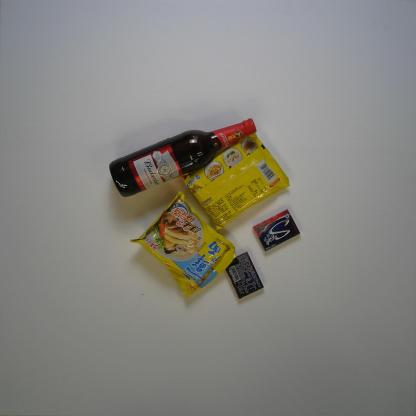Alcohol: (107, 118, 257, 198)
Gum: (251, 207, 302, 254), (221, 251, 265, 301)
Instant Noodles: (128, 191, 236, 304), (180, 129, 291, 232)
